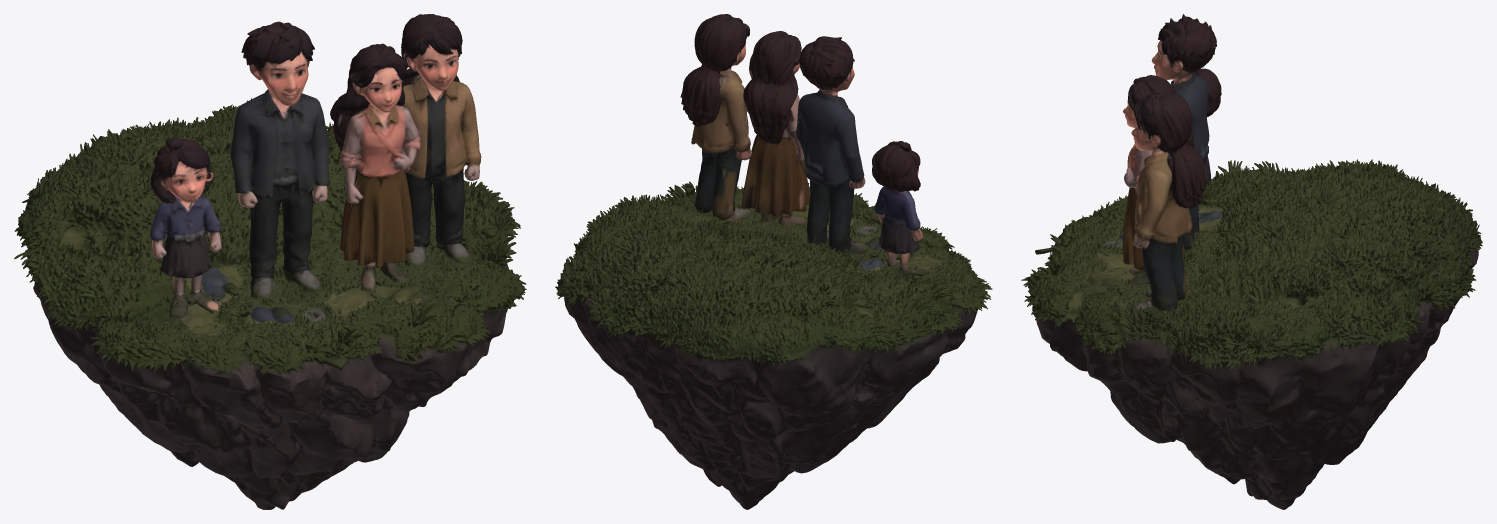
3 renders of one model, left to right at view 1: azimuth 30°, elevation 25°; view 2: azimuth 150°, elevation 25°; view 3: azimuth 270°, elevation 25°, orthographic. The views are drawn at different scales.
Visible parts, largest first — view 1: mesh_node; view 2: mesh_node; view 3: mesh_node.
Boxes of the visible parts, bbox=[...] form: mesh_node: bbox=[14, 14, 526, 509]; mesh_node: bbox=[555, 14, 992, 509]; mesh_node: bbox=[1021, 14, 1482, 509].
Bounding box in the file's own units: 1.66 × 1.9 × 1.69.
Materials: 1 (1 with a texture image).
